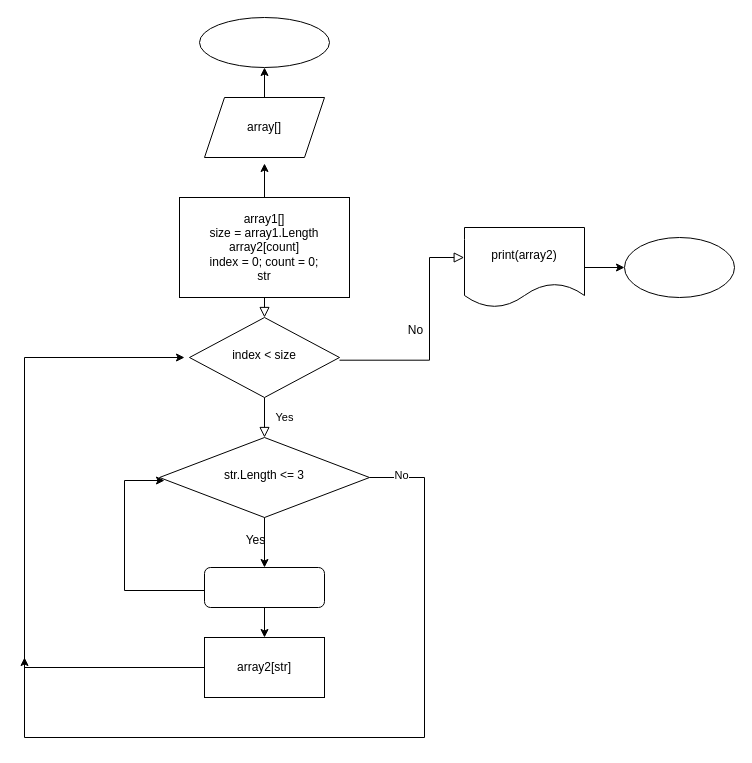
Image size: 752x763. Some labels were removed from this diagram. The shapes that lost their labels are listed below. From the top down, each one's centre as x and y in pixels, then its label:
At (264,42): "Start".
At (679,267): "End".
At (264,587): "count ++".
